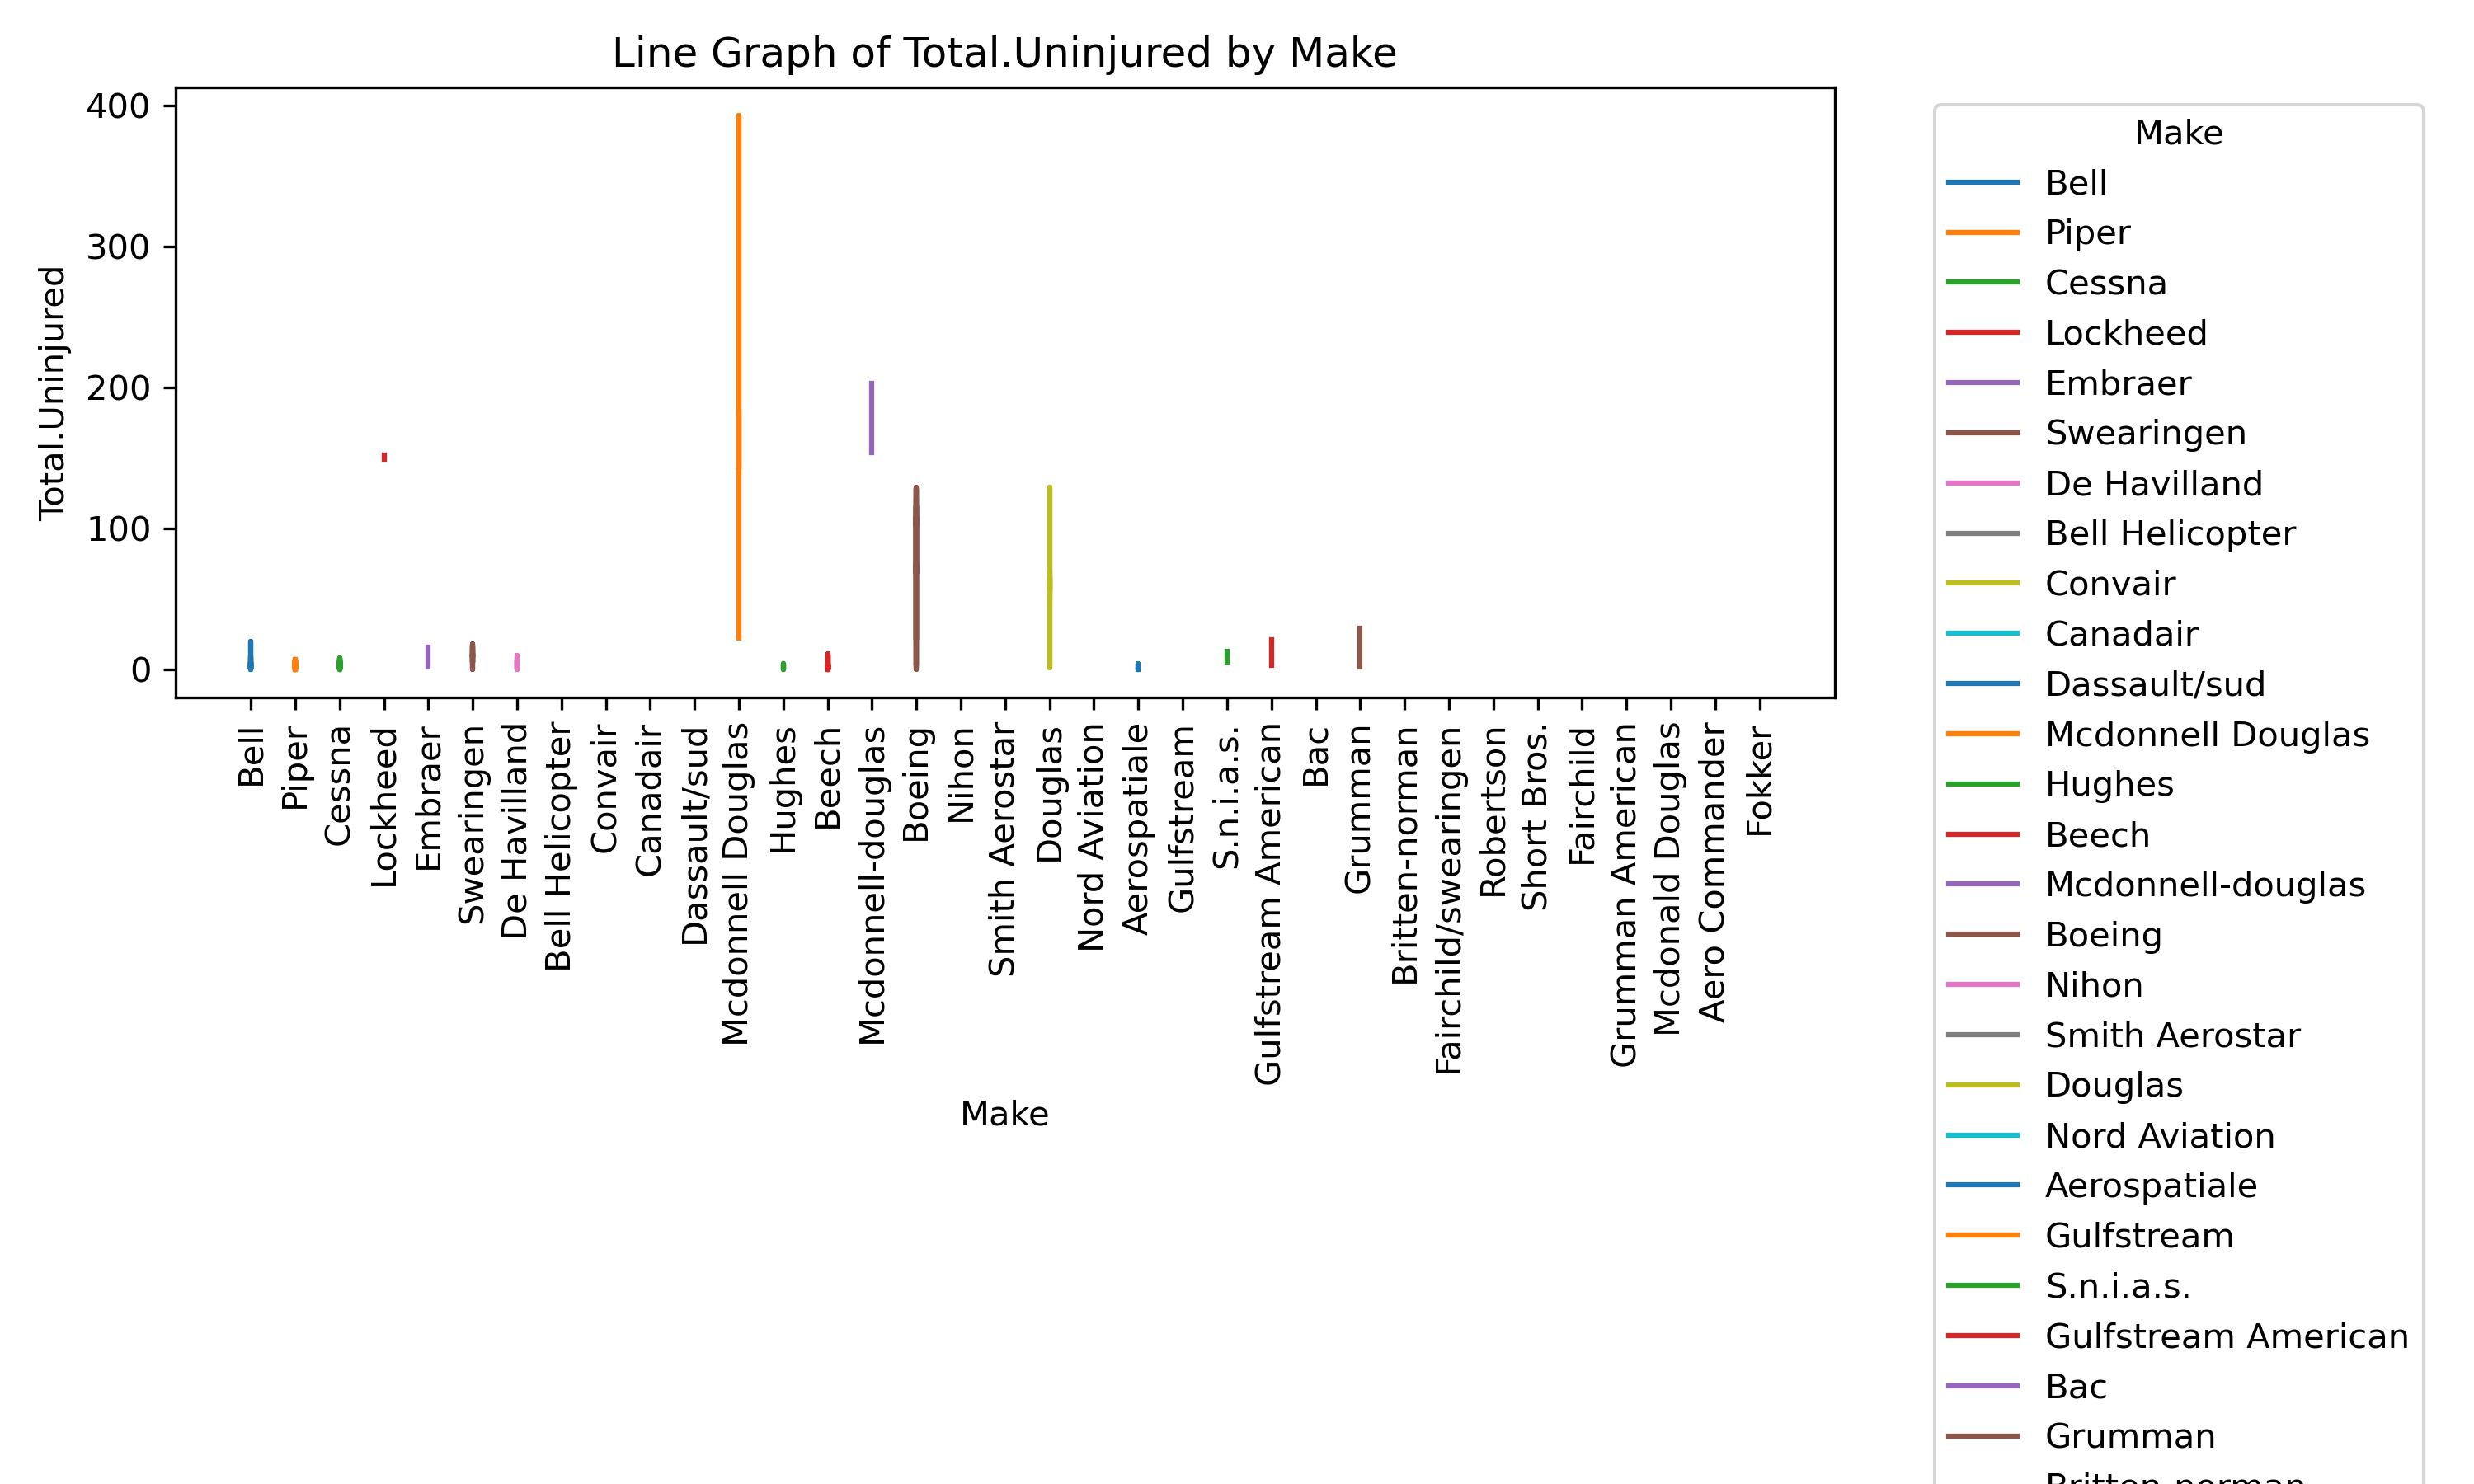

Layout of this report page (visuals, bound fields, positions):
{"tool":"tableau","page":{"name":"Dashboard 8","canvas":[1000,800],"ordinal":7},"visuals":[{"type":"worksheet","title":"TOTAL UNINJURED BASED ON AIRCRAFT CATEGORY AND MAKE","mark":"Automatic","rows":["Total.Uninjured"],"cols":["Aircraft.Category","Make"],"box":[8,8,984,784]}]}

Visuals, with their boxes on the page's 1000x800 design canvas (x1, y1, x2, y2). These are canvas units, not pixel positions in the 2474x1484 screenshot, which may show the page scaled, cropped or inside an application window:
"TOTAL UNINJURED BASED ON AIRCRAFT CATEGORY AND MAKE" worksheet: bbox=(8, 8, 992, 792)
